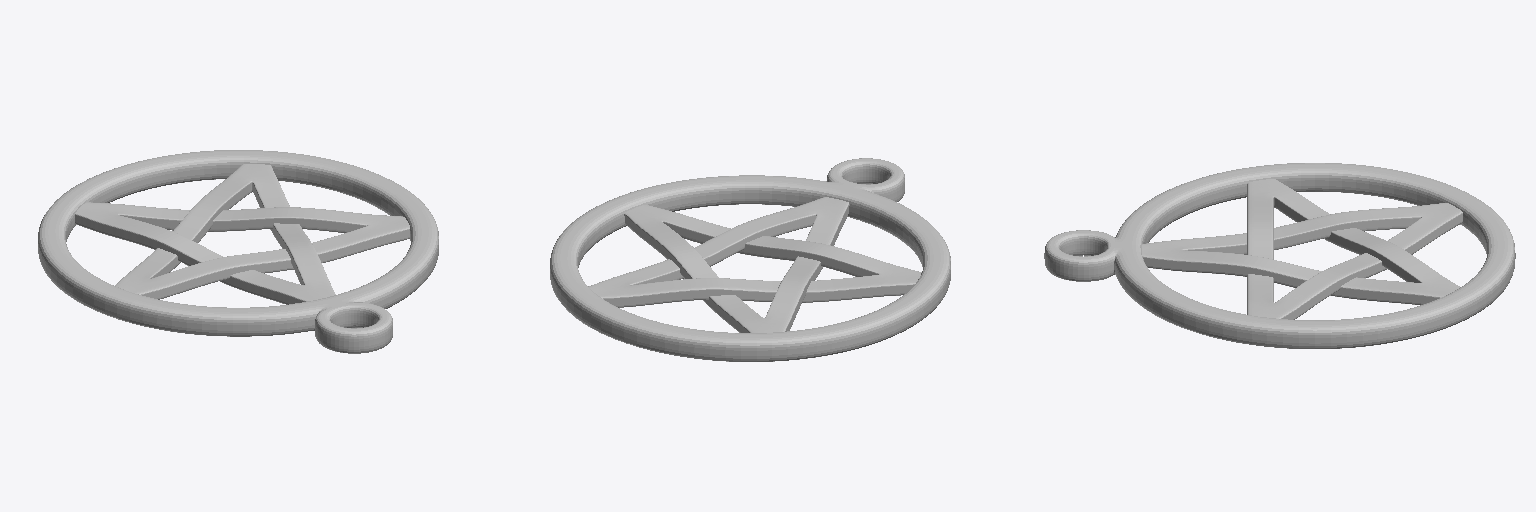
The model's file is 18373_Wiccan_Star_in_a_Circle_V1.obj.
3 renders of one model, left to right at view 1: azimuth 30°, elevation 25°; view 2: azimuth 150°, elevation 25°; view 3: azimuth 270°, elevation 25°, orthographic.
Visible parts, largest first — view 1: 18373_Wiccan_Star_in_a_Circle; view 2: 18373_Wiccan_Star_in_a_Circle; view 3: 18373_Wiccan_Star_in_a_Circle.
Part boxes in pixels (bbox=[...]): 18373_Wiccan_Star_in_a_Circle: bbox=[38, 150, 438, 353]; 18373_Wiccan_Star_in_a_Circle: bbox=[550, 158, 950, 361]; 18373_Wiccan_Star_in_a_Circle: bbox=[1044, 163, 1515, 348].
Size of the model in its own units: 5.9 by 0.36 by 6.93.